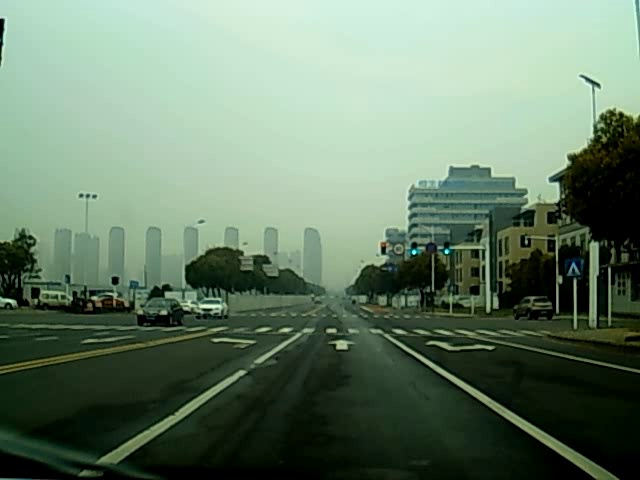Traffic_Light_go: (443, 241, 451, 256), (410, 244, 417, 258)
Traffic_Light_stop: (381, 242, 388, 256)
